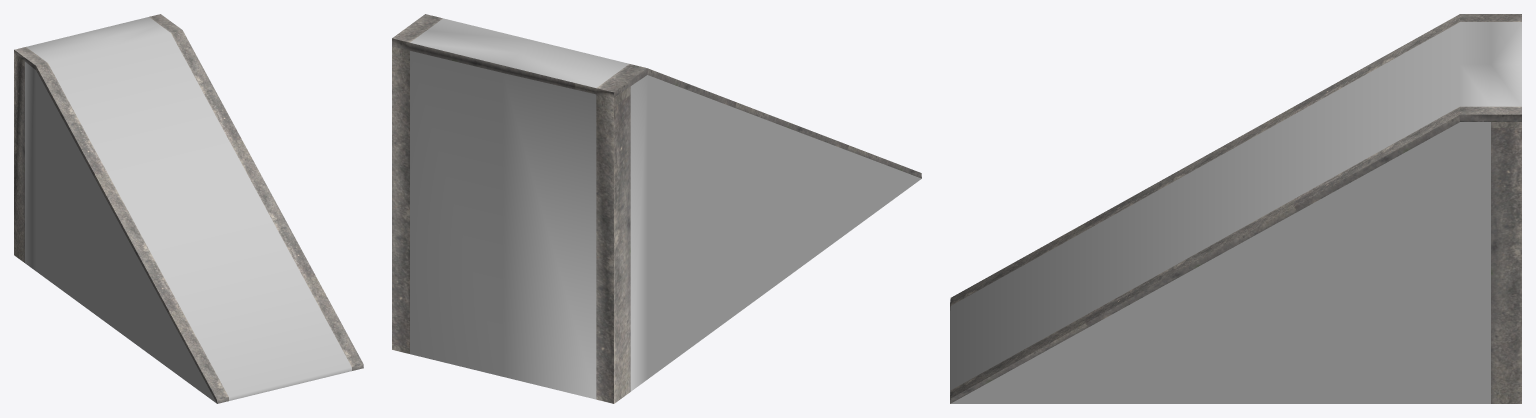
File: JpHouseJ_StoneWall_slope01a.fbx
The picture shows the model from 3 angles, left to right: view 1: azimuth 30°, elevation 25°; view 2: azimuth 150°, elevation 25°; view 3: azimuth 270°, elevation 25°; orthographic projection. The views are drawn at different scales.
Parts seen in each view (by area): view 1: JpHouseJ_StoneWall_slope01a; view 2: JpHouseJ_StoneWall_slope01a; view 3: JpHouseJ_StoneWall_slope01a.
Part boxes in pixels (x1=…): JpHouseJ_StoneWall_slope01a: x1=14, y1=14, x2=363, y2=403; JpHouseJ_StoneWall_slope01a: x1=392, y1=14, x2=921, y2=403; JpHouseJ_StoneWall_slope01a: x1=950, y1=14, x2=1521, y2=403.
Bounding box in the file's own units: 2.88 × 3.85 × 6.9.
